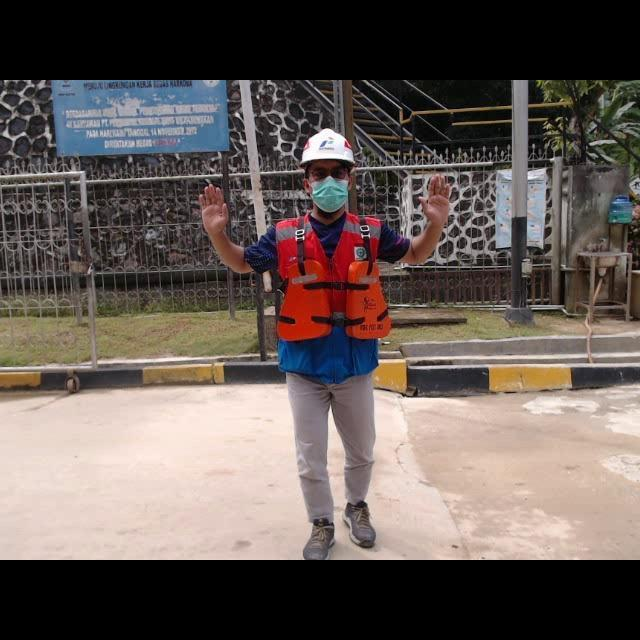Hardhat: (298, 127, 354, 163)
Mask: (308, 177, 350, 213)
Person: (192, 129, 451, 560)
Safety Vest: (274, 213, 393, 344)
